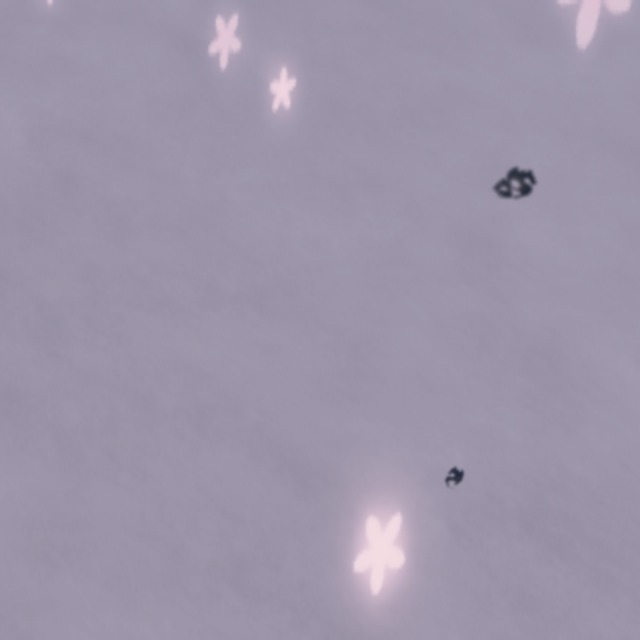urso_preto: (485, 159, 541, 210), (437, 460, 472, 495)
